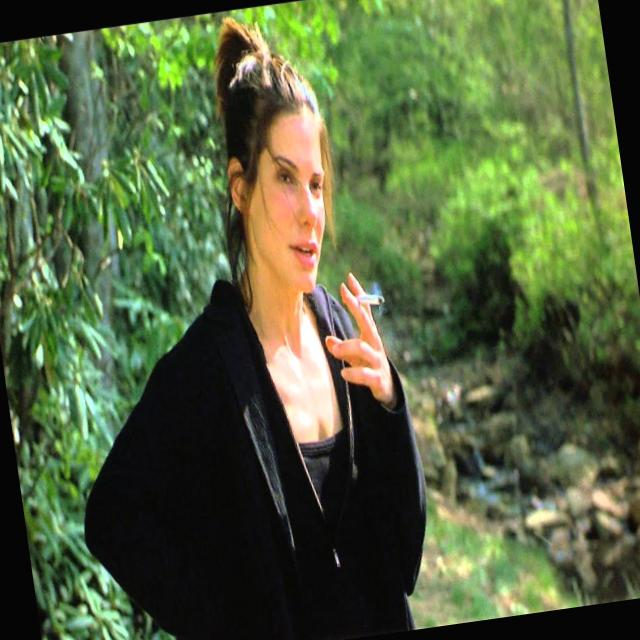cigarette: (344, 274, 391, 324)
